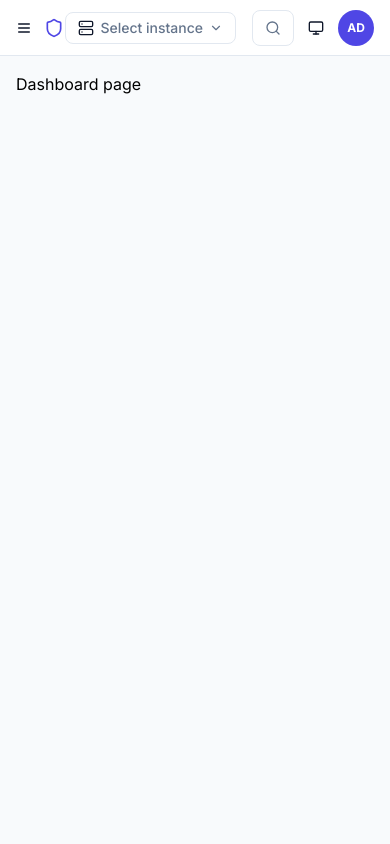
Test case: Shell responsive › hamburger button has correct aria-label and toggles store
The image size is (390, 844).
Click the button named "Open navigation" at {"x": 24, "y": 28}, box x1=16 y1=10 x2=32 y2=46
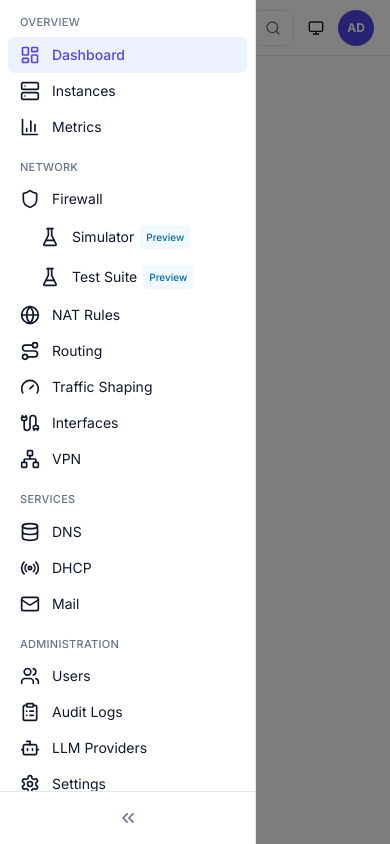
Expected: the button named "Close navigation" is shown, x1=16 y1=10 x2=32 y2=46
